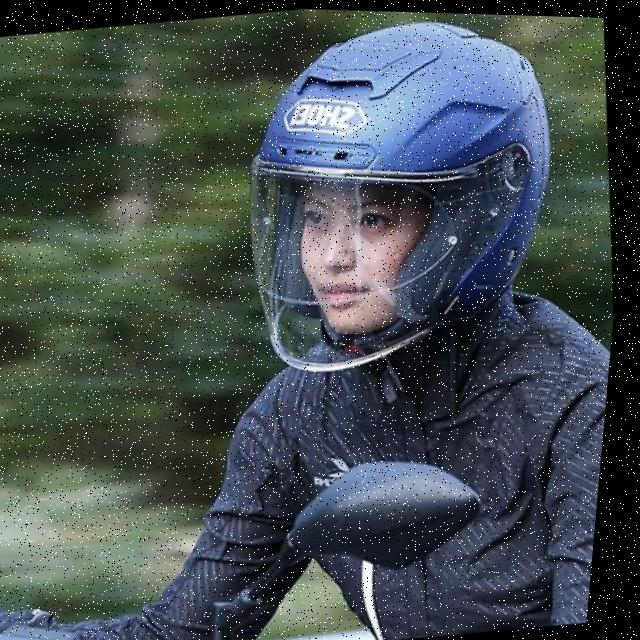helmet: (213, 6, 601, 396)
